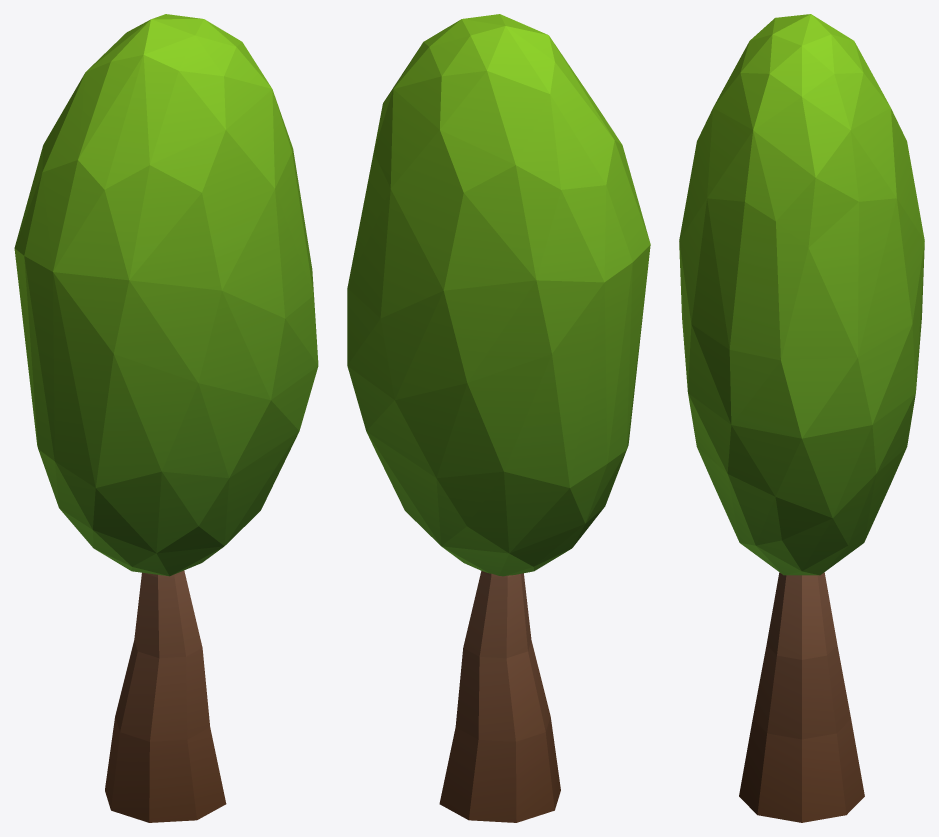
Rendered from Tree_02.fbx.
3 renders of one model, left to right at view 1: azimuth 30°, elevation 25°; view 2: azimuth 150°, elevation 25°; view 3: azimuth 270°, elevation 25°, orthographic.
Visible parts, largest first — view 1: Tree_02; view 2: Tree_02; view 3: Tree_02.
Boxes of the visible parts, box(x1,y1,x2,y2) form: Tree_02: box(14, 14, 318, 822); Tree_02: box(347, 14, 650, 822); Tree_02: box(679, 14, 924, 822).
Size of the model in its own units: 59.58 by 159 by 45.46.
